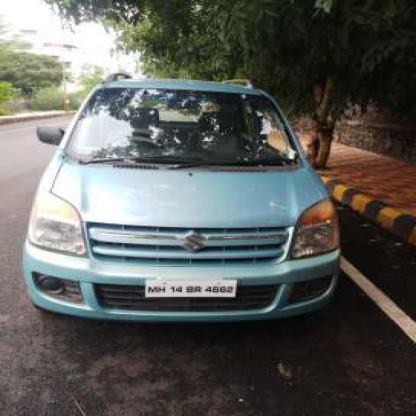license: (139, 276, 242, 298)
